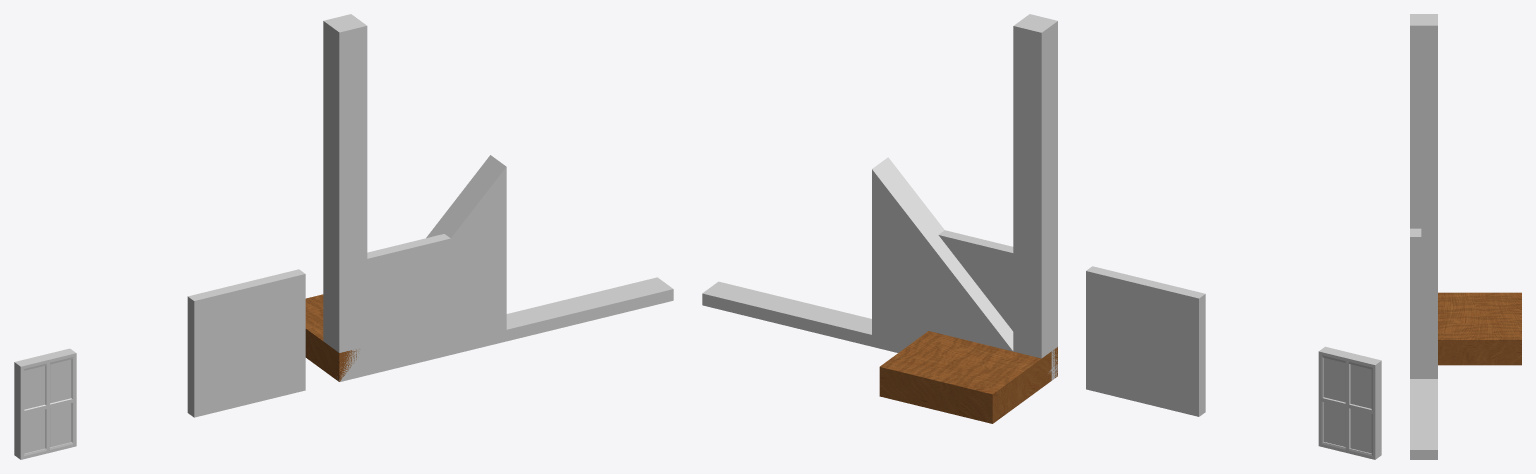
File: TestSample3.fbx
The picture shows the model from 3 angles, left to right: view 1: azimuth 30°, elevation 25°; view 2: azimuth 150°, elevation 25°; view 3: azimuth 270°, elevation 25°; orthographic projection. The views are drawn at different scales.
Visible parts, largest first — view 1: LowTriangleWoodA, LowWoodD, LowWoodA_Wall, LowWoodA_Door_Extra, LowWoodB_Wall, LowWoodC, LowWoodA; view 2: LowWoodA_Wall, LowTriangleWoodA, LowWoodD, LowWoodA, LowWoodA_Door_Extra, LowWoodC, LowWoodB_Wall; view 3: LowWoodA, LowWoodD, LowTriangleWoodA, LowWoodC.
Boxes of the visible parts, left/top/right/bottom form: LowTriangleWoodA: left=340, top=155, right=506, bottom=381; LowWoodD: left=323, top=14, right=367, bottom=378; LowWoodA_Wall: left=187, top=269, right=305, bottom=417; LowWoodA_Door_Extra: left=14, top=348, right=76, bottom=459; LowWoodB_Wall: left=338, top=234, right=450, bottom=380; LowWoodC: left=506, top=277, right=673, bottom=341; LowWoodA: left=305, top=294, right=356, bottom=381; LowWoodA_Wall: left=1086, top=266, right=1205, bottom=416; LowTriangleWoodA: left=872, top=157, right=1013, bottom=351; LowWoodD: left=1013, top=14, right=1057, bottom=375; LowWoodA: left=879, top=331, right=1057, bottom=423; LowWoodA_Door_Extra: left=1318, top=346, right=1381, bottom=459; LowWoodC: left=702, top=281, right=1057, bottom=375; LowWoodB_Wall: left=938, top=230, right=1057, bottom=380; LowWoodA: left=1438, top=292, right=1521, bottom=365; LowWoodD: left=1410, top=14, right=1437, bottom=236; LowTriangleWoodA: left=1410, top=237, right=1437, bottom=378; LowWoodC: left=1410, top=379, right=1437, bottom=459.
Size of the model in its own units: 2344 by 1200 by 400.
